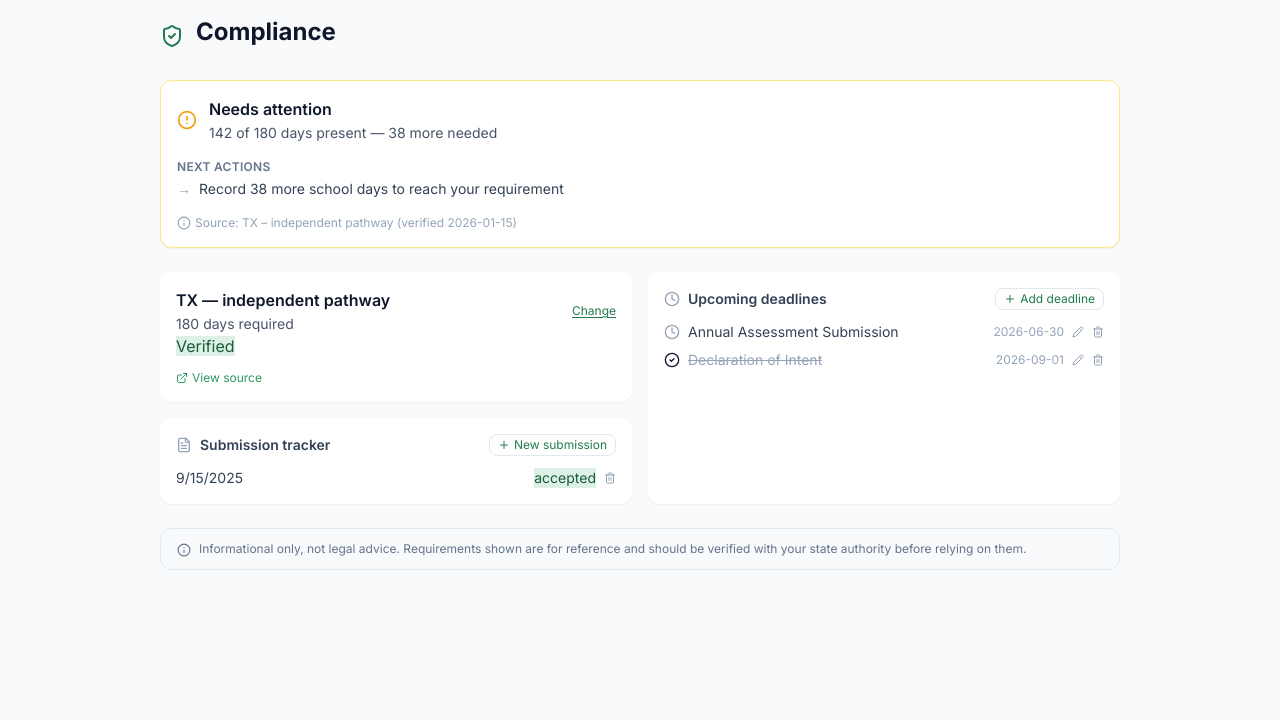
Test: CompliancePage › shows info tooltips next to the ruleset and pathway selectors when rulesets are present
This screenshot has width=1280, height=720.
Expected: the element with test id "compliance-ruleset" is shown, [160,272,632,402]
Click the button "Change" at (594,311), box [572,303,616,319]
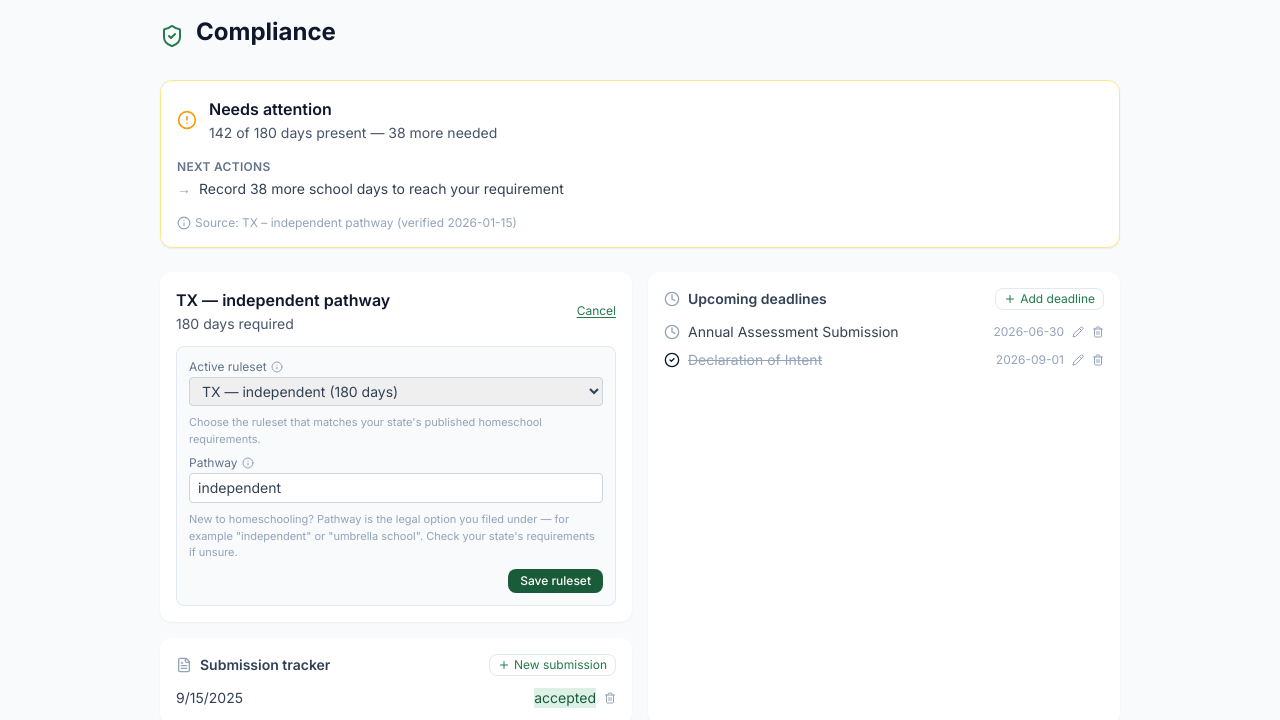
Result: the dropdown named "Active ruleset" is shown at [189,377,603,406]
Result: the button with test id "ruleset-select-info" is shown at [271,361,283,373]
Result: the button with test id "pathway-info" is shown at [242,457,254,469]
